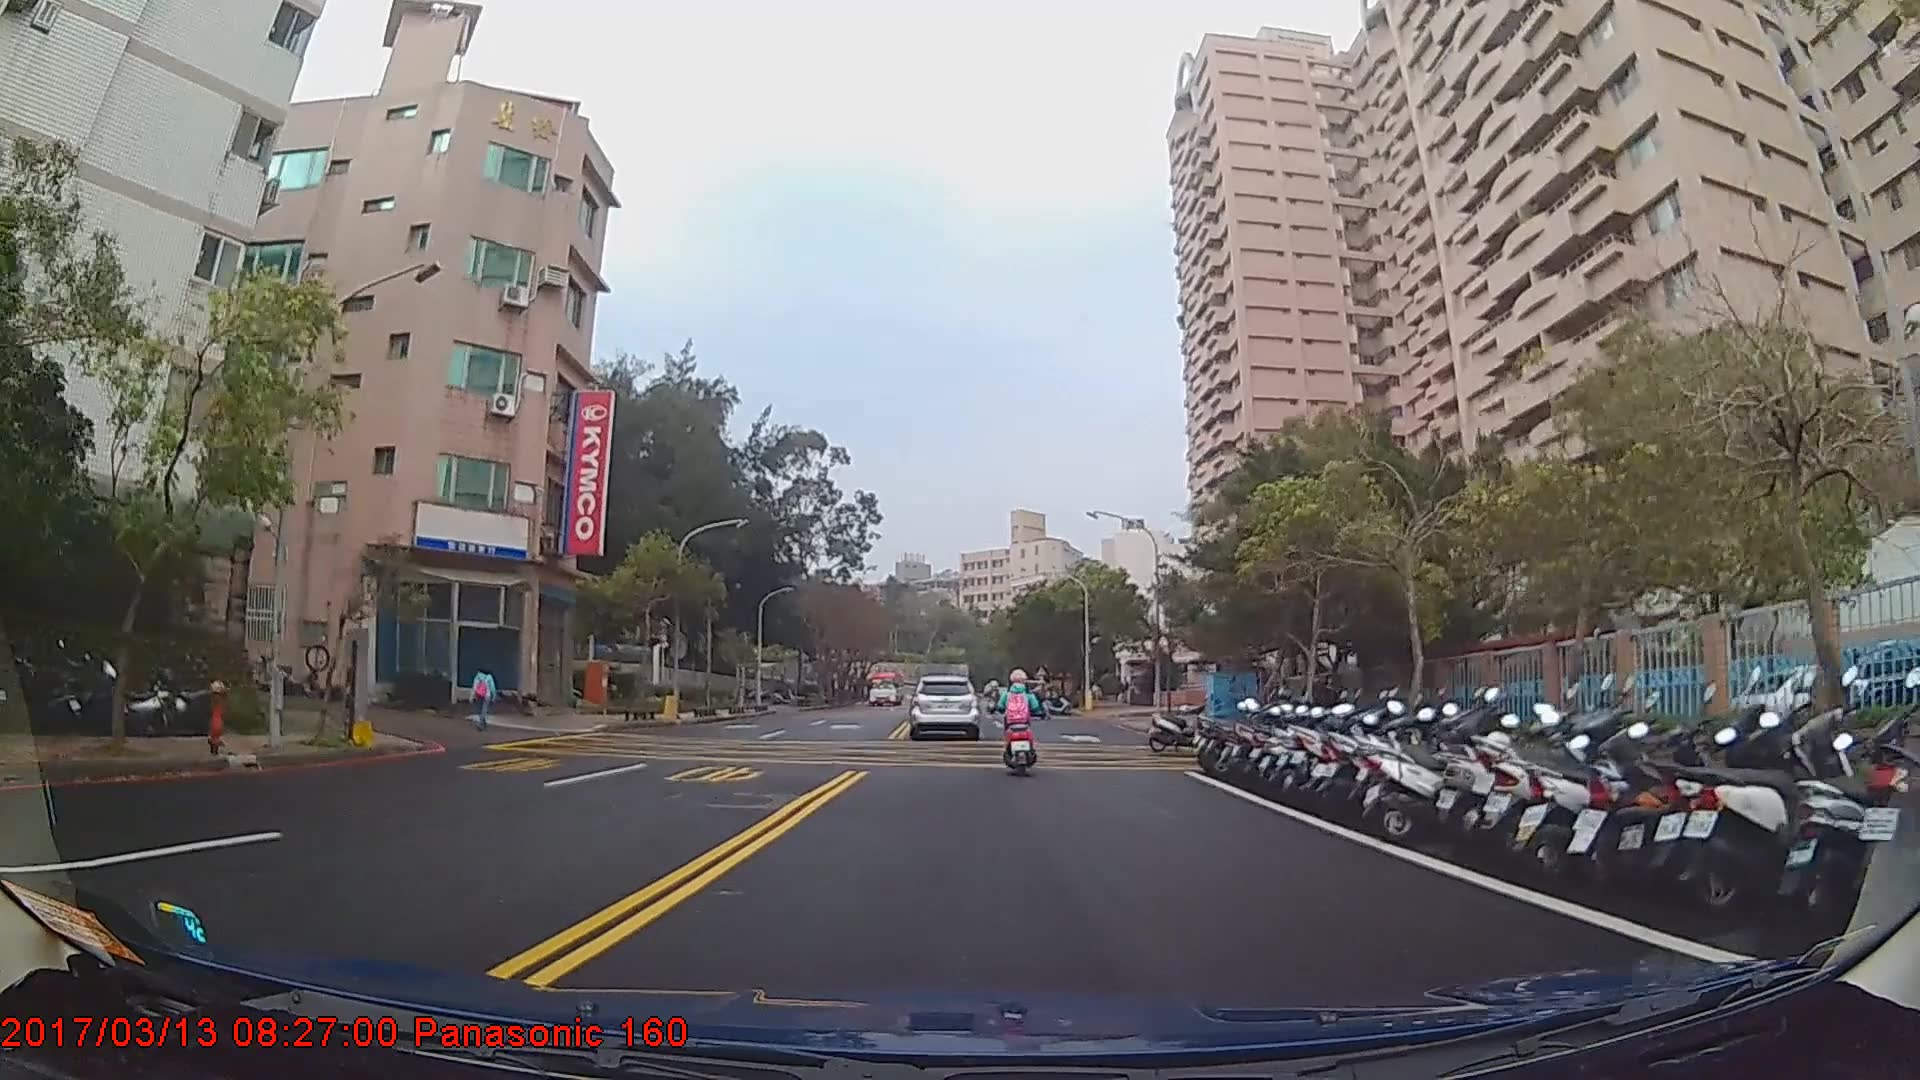pedestrian: (473, 661, 498, 733)
rider: (994, 667, 1044, 783)
vehicle: (908, 672, 977, 738), (864, 668, 905, 706)
